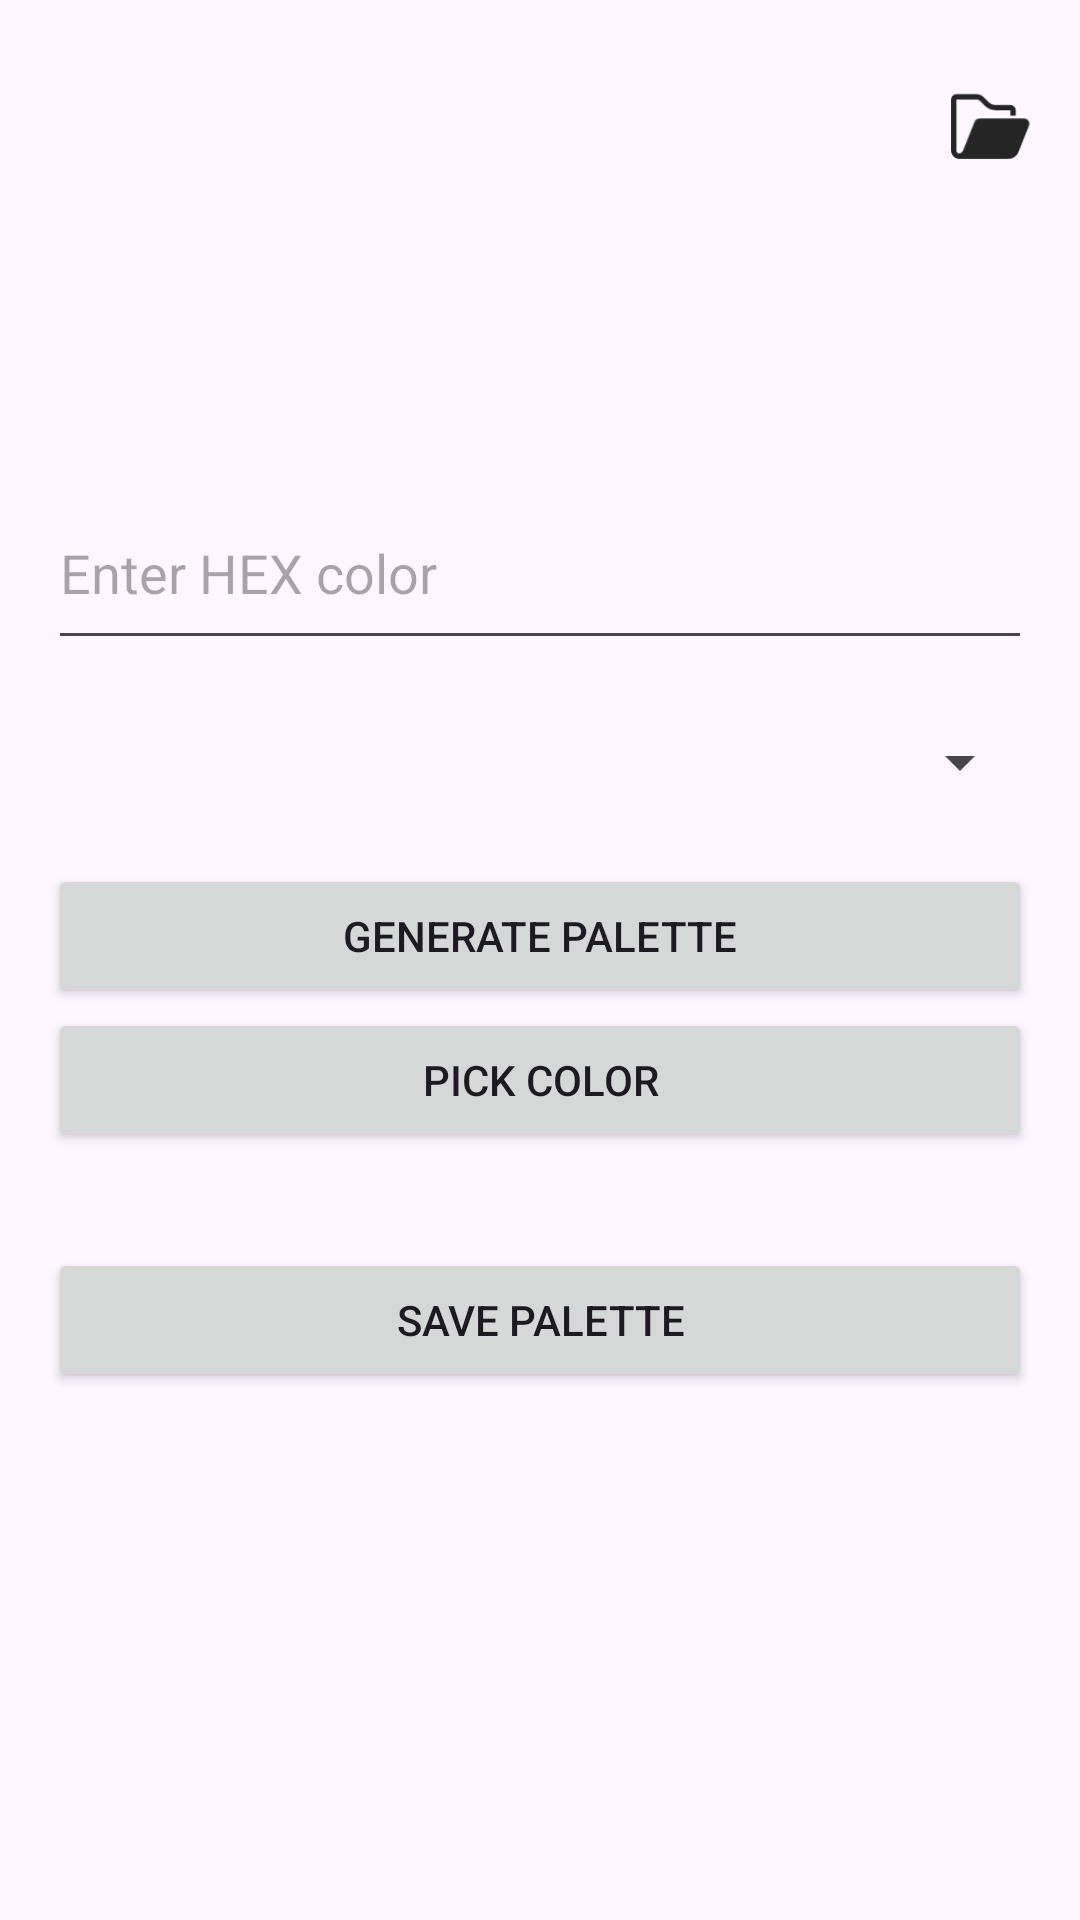

Named icons in this screenshot (1080px x 1920px) and their bounding boxes, (x1, y1, x2, y2):
open: (951, 93, 1030, 159)
